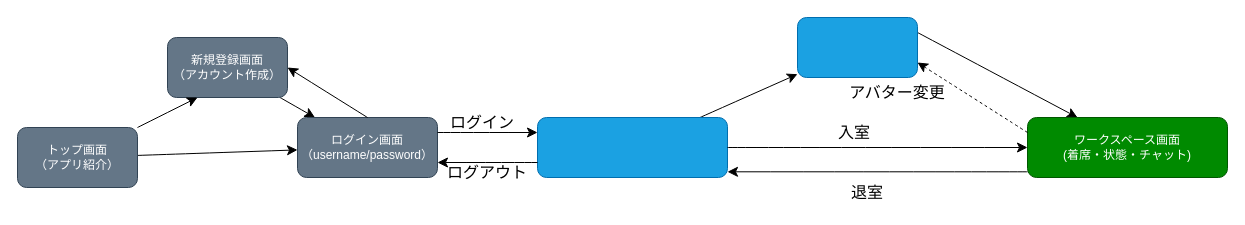
The diagram is 1245 pixels wide and 225 high, and some of its shapes have lost their labels. The centre of each missing label's shape, as x and y in pixels:
"アバター選択画面 (4種類から選択)" belongs at point (857, 47).
"ロビー画面 (部屋一覧、 プライベート部屋作成/入室)" belongs at point (632, 147).
